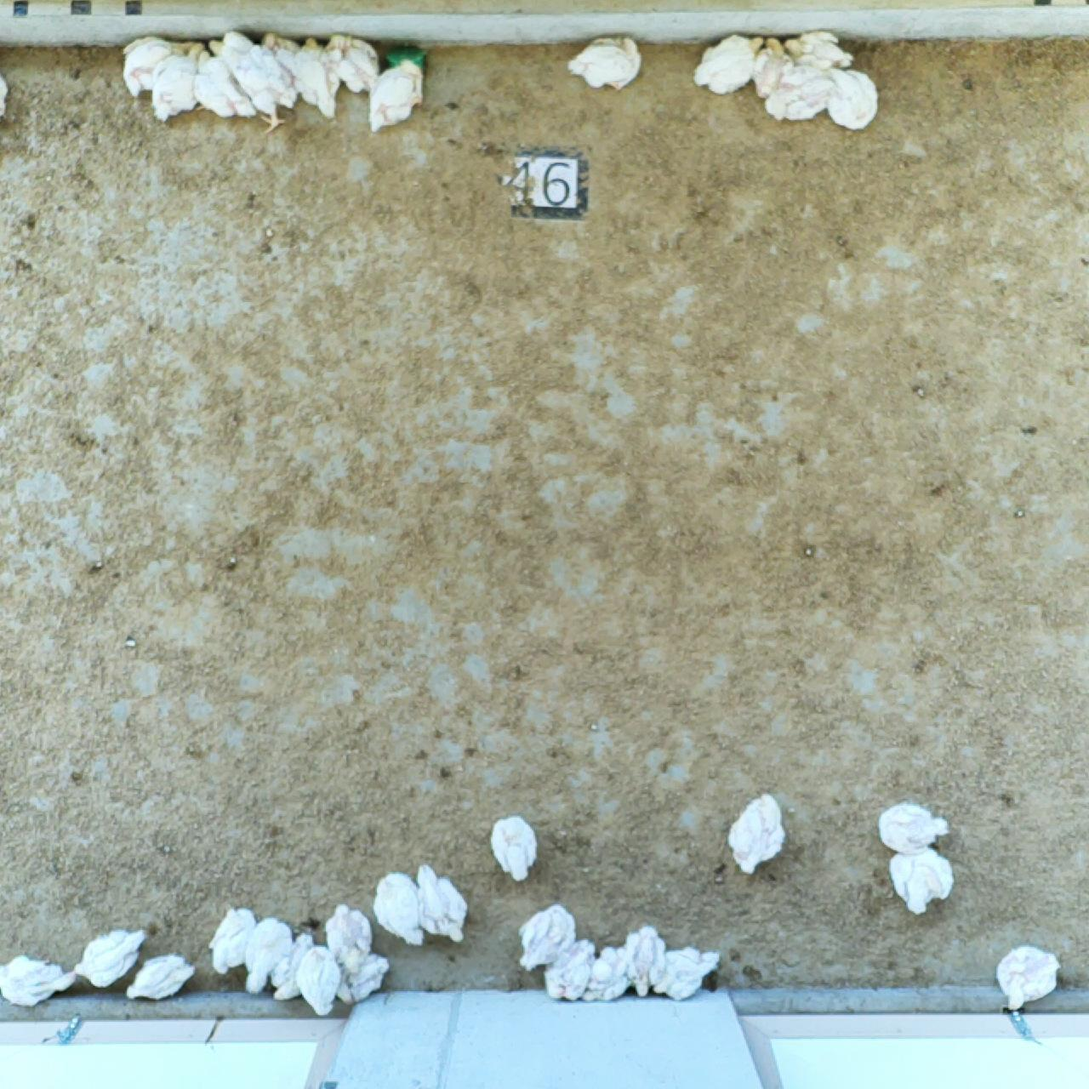chicken: (211, 36, 296, 130), (262, 34, 342, 122), (761, 34, 830, 119), (995, 944, 1061, 1015), (193, 47, 255, 122), (121, 37, 196, 98), (730, 795, 787, 875), (413, 864, 470, 943), (517, 902, 581, 972), (72, 929, 146, 989), (693, 34, 763, 96), (891, 847, 953, 916), (372, 870, 425, 950), (567, 37, 642, 92), (368, 61, 423, 132), (1, 955, 74, 1008), (322, 904, 377, 974), (244, 919, 292, 998), (878, 801, 951, 852), (156, 43, 202, 123), (323, 34, 381, 96), (651, 947, 721, 998), (125, 953, 197, 1002), (621, 923, 665, 1000), (489, 814, 538, 883), (542, 940, 597, 1001), (584, 940, 638, 1001), (827, 70, 879, 130), (271, 930, 312, 1004), (210, 908, 257, 972), (299, 946, 342, 1015), (334, 955, 391, 1006), (784, 31, 853, 70), (1, 71, 9, 123)
